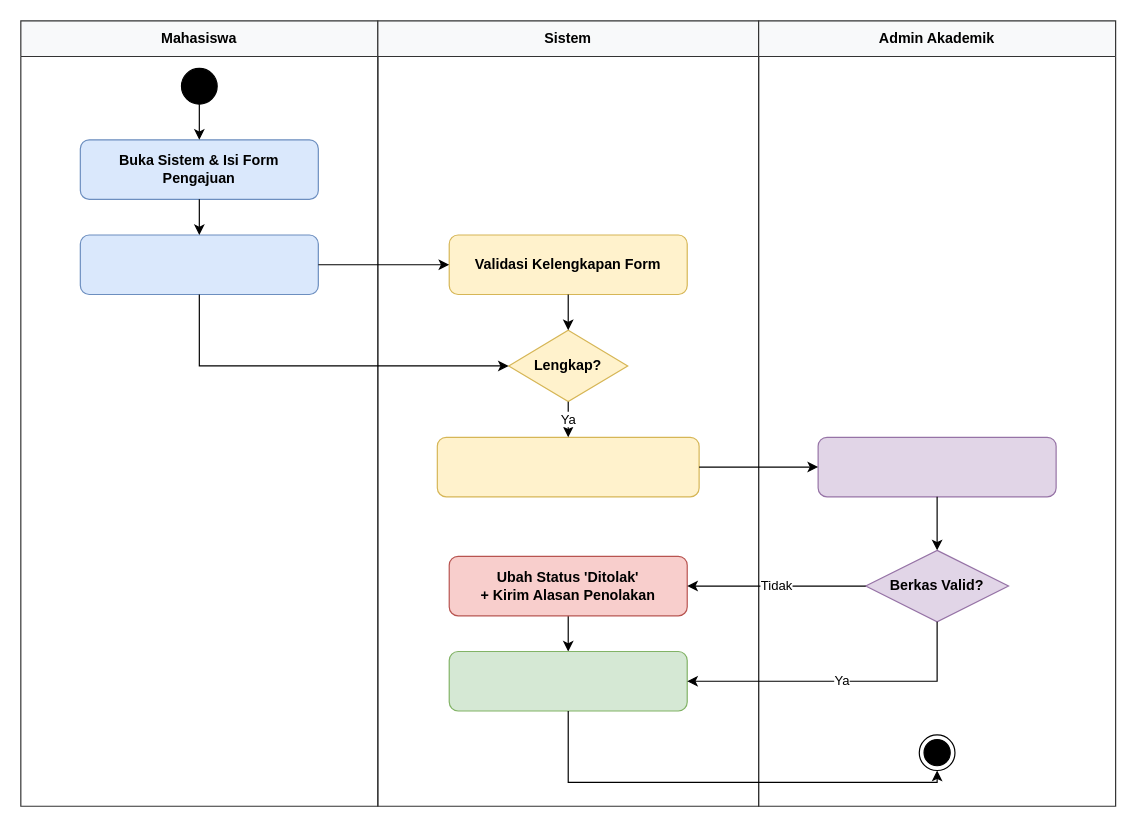
The diagram is 1136 pixels wide and 827 high, and some of its shapes have lost their labels. The shapes that lost their labels are listed below. From the top down, each one's centre as x and y in pixels, then its label:
pixel 198 264: Unggah Berkas Syarat (PDF/JPG)
pixel 567 466: Simpan Pengajuan & Set Status 'Diverifikasi Admin'
pixel 936 466: Buka Dashboard & Periksa Berkas Persyaratan
pixel 567 680: Ubah Status 'Menunggu TTE Kaprodi'
